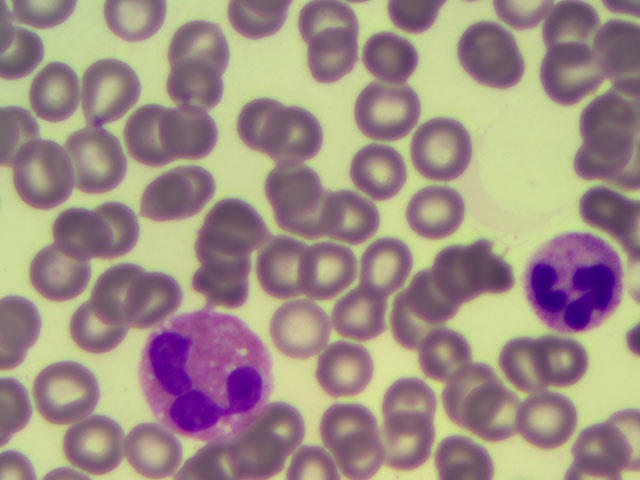RBC: (231, 420, 286, 480), (286, 420, 341, 480), (446, 420, 501, 480), (577, 420, 632, 480), (27, 62, 82, 121), (83, 64, 138, 123), (171, 14, 226, 73), (164, 56, 219, 115), (169, 107, 224, 166), (134, 103, 189, 162), (67, 128, 122, 187), (26, 143, 81, 202), (53, 210, 108, 269), (85, 200, 140, 259), (28, 241, 83, 300), (68, 297, 123, 356), (85, 256, 140, 315), (126, 265, 181, 324), (41, 363, 96, 422), (68, 410, 123, 469), (123, 415, 178, 474), (258, 393, 313, 452), (315, 397, 370, 456), (314, 332, 369, 391), (271, 297, 326, 356), (302, 244, 357, 303), (242, 232, 297, 291), (208, 188, 263, 247), (191, 218, 246, 277), (194, 257, 249, 316), (260, 155, 315, 214), (288, 177, 343, 236), (271, 104, 326, 163), (235, 90, 290, 149), (310, 31, 365, 90), (354, 20, 409, 79), (366, 80, 421, 139), (358, 136, 413, 195), (333, 185, 388, 244), (362, 232, 417, 291), (332, 282, 387, 341), (384, 291, 439, 350), (402, 265, 457, 324), (443, 250, 498, 309), (462, 232, 517, 291), (409, 174, 464, 233), (413, 118, 468, 177), (451, 17, 506, 76), (480, 32, 535, 91), (538, 44, 593, 103), (545, 3, 600, 62), (585, 16, 640, 75), (585, 94, 640, 153), (585, 138, 640, 197), (585, 178, 640, 237), (535, 328, 590, 387), (504, 333, 559, 392), (520, 384, 575, 443), (471, 386, 526, 445), (445, 365, 500, 424), (422, 328, 477, 387), (377, 368, 432, 427), (381, 412, 436, 471), (295, 1, 350, 59), (102, 1, 163, 42)
WBC: (145, 311, 265, 442), (521, 231, 624, 335)
